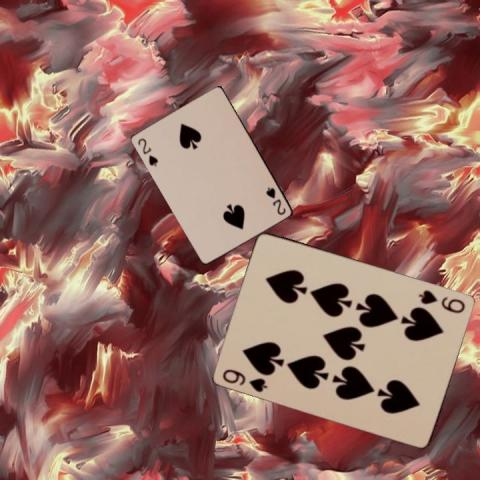2s: (135, 136, 160, 168), (264, 184, 288, 217)
9s: (416, 286, 467, 314), (220, 366, 270, 393)
